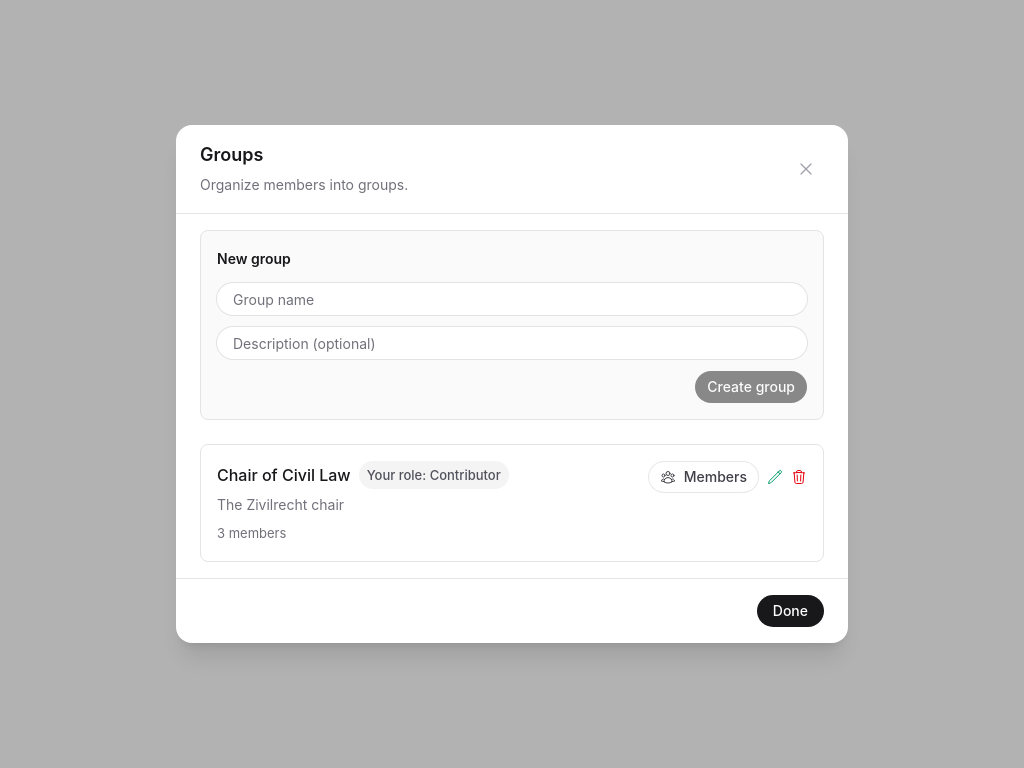
Scenario: OrgGroups › delete group › shows the 409 detail text when the group still has attachments
Click the button with test id "group-delete-grp-1".
click(799, 477)  # box [791, 469, 807, 485]
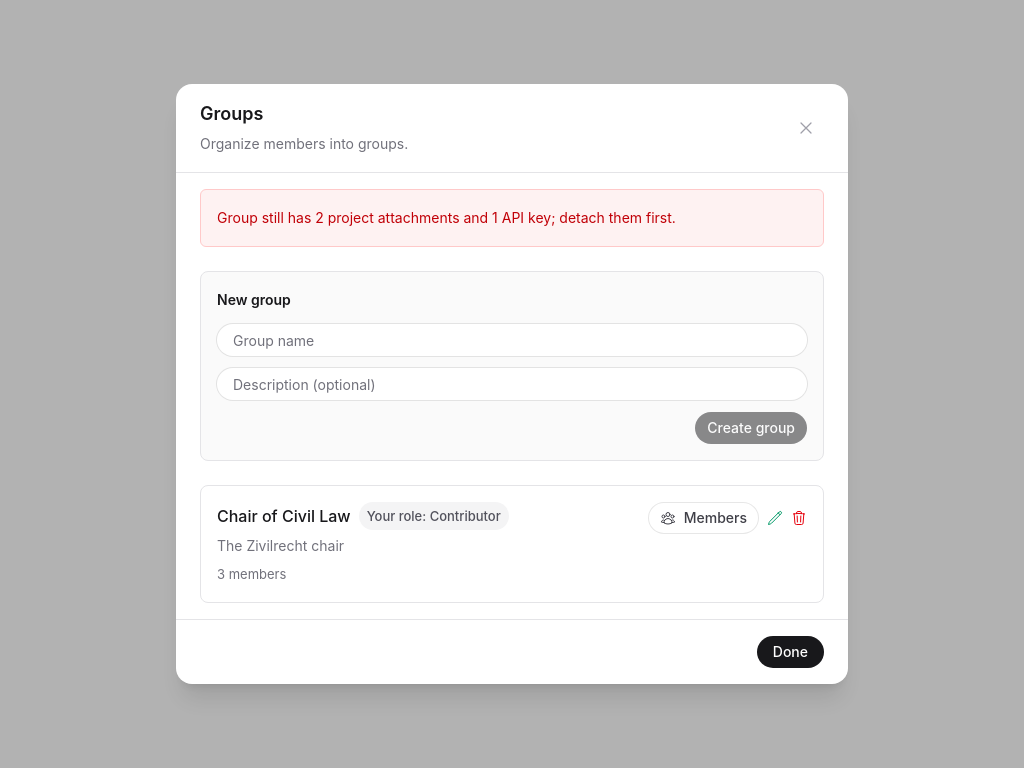
Result: the text "Group still has 2 project attachments and 1 API key; detach them first." is shown at [200, 189, 824, 247]
